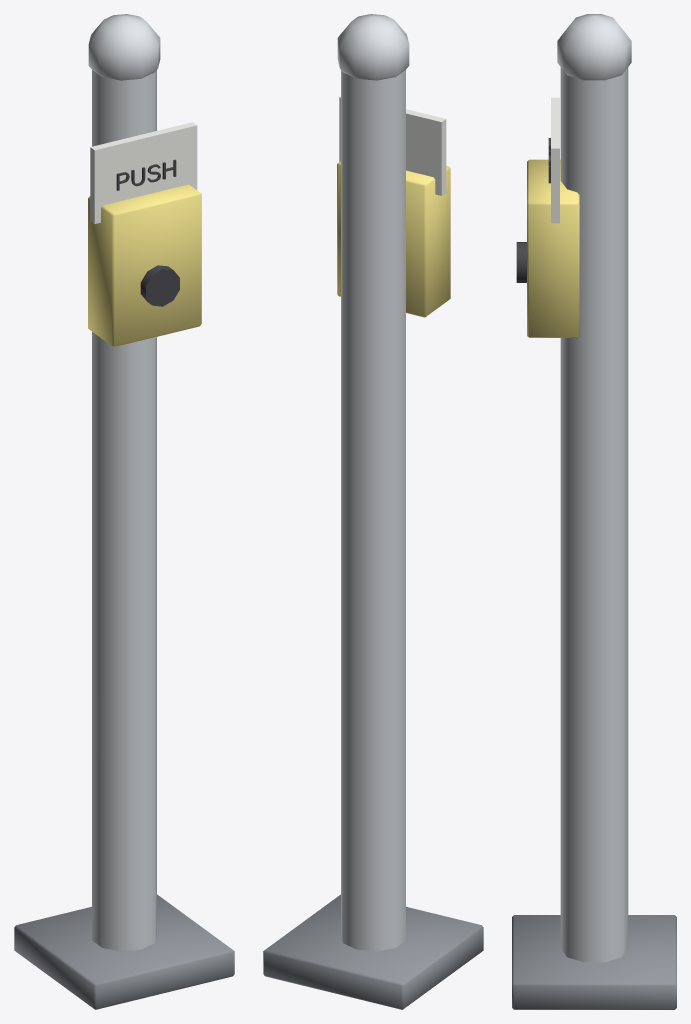
File: PedButton_Post.fbx
3 renders of one model, left to right at view 1: azimuth 30°, elevation 25°; view 2: azimuth 150°, elevation 25°; view 3: azimuth 270°, elevation 25°, orthographic.
Parts seen in each view (by area): view 1: LOD0; view 2: LOD0; view 3: LOD0.
Part boxes in pixels (<box>): LOD0: <box>14,14,234,1009</box>; LOD0: <box>263,14,483,1009</box>; LOD0: <box>512,14,676,1009</box>.
Size of what is drawn, in the model's own units: 22 by 141 by 22.
